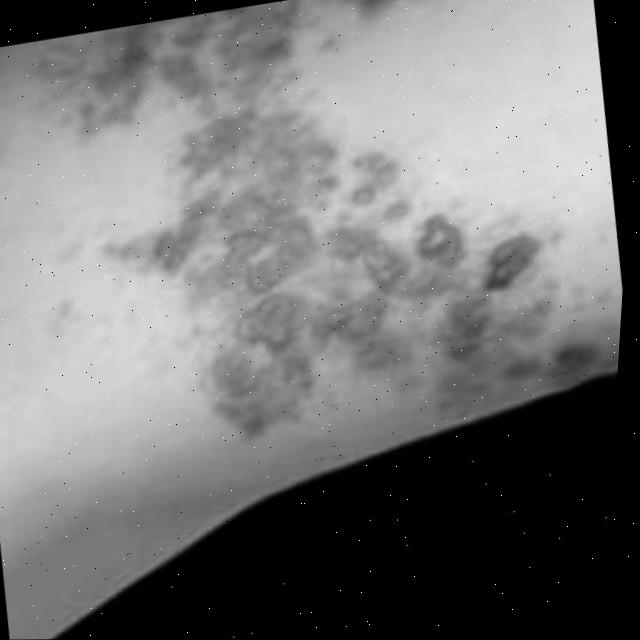Shingles: (30, 0, 594, 439)
